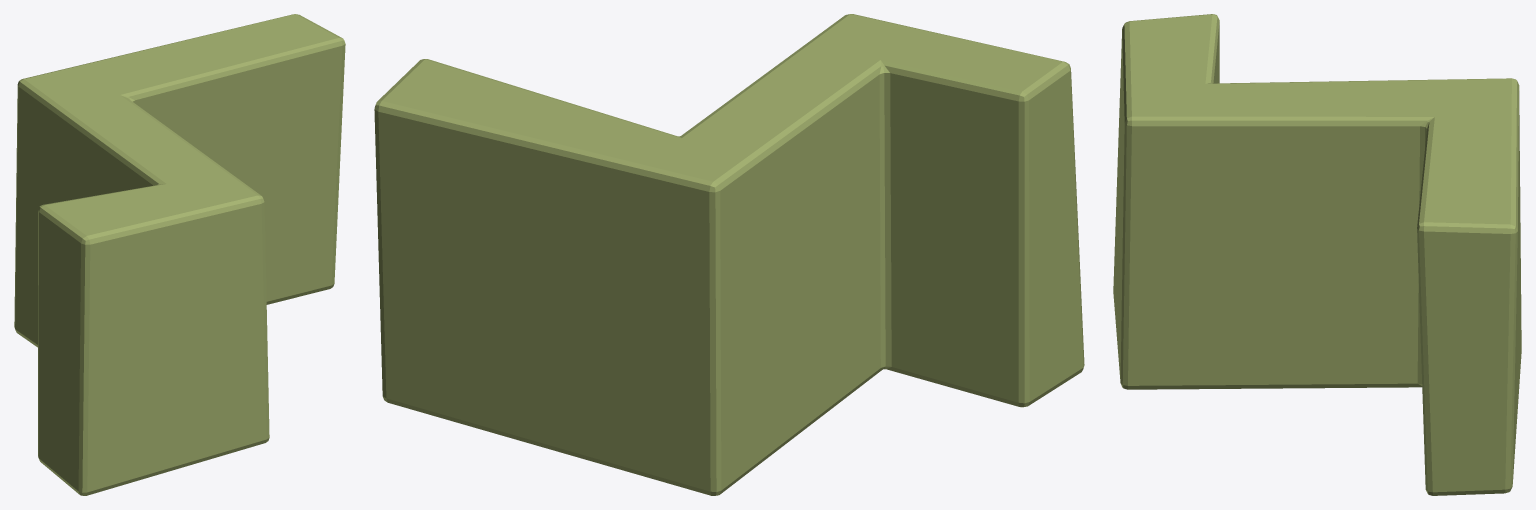
Rendered from Wall piece 5 collider.fbx.
3 views of the same model, side by side, from view 1: azimuth 30°, elevation 25°; view 2: azimuth 150°, elevation 25°; view 3: azimuth 270°, elevation 25° (orthographic). The views are drawn at different scales.
Parts seen in each view (by area): view 1: wall piece 5 collider; view 2: wall piece 5 collider; view 3: wall piece 5 collider.
Boxes of the visible parts, box(x1,y1,x2,y2) form: wall piece 5 collider: box(14, 14, 345, 495); wall piece 5 collider: box(374, 14, 1084, 495); wall piece 5 collider: box(1113, 14, 1521, 495).
Size of the model in its own units: 713 by 567 by 440.
